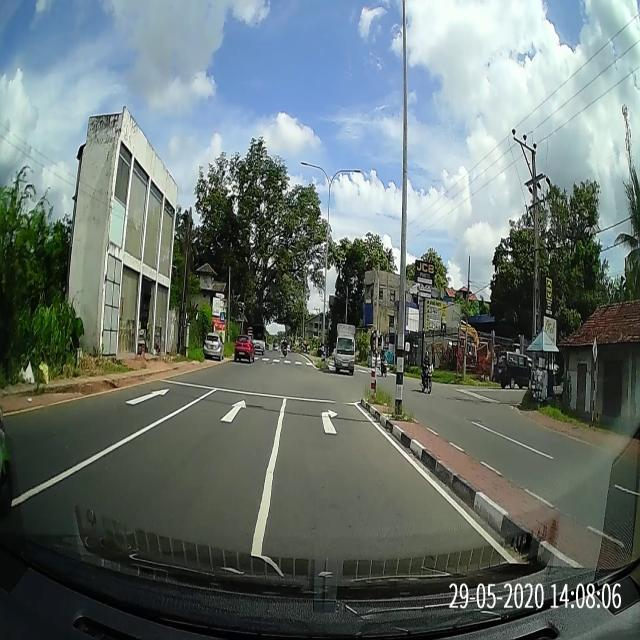Strelka vpered: (124, 389, 170, 405), (219, 400, 247, 422)
Strelka vpravo: (322, 409, 338, 434)
